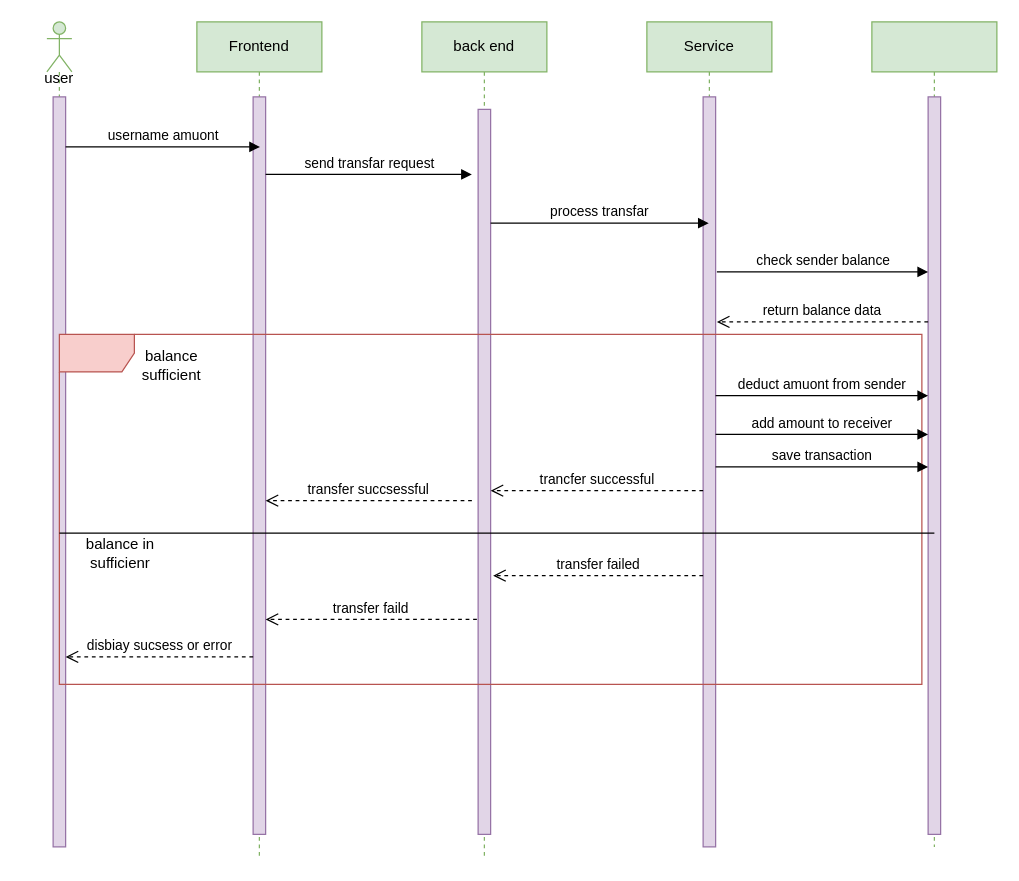
Some shapes in this 1019 by 881 pixel diagram are drawn without their labels. Here are the shapes that lost their labels. From the top down, the box of each, then its label:
(871, 21, 997, 847): Database
(58, 333, 922, 684): alt
